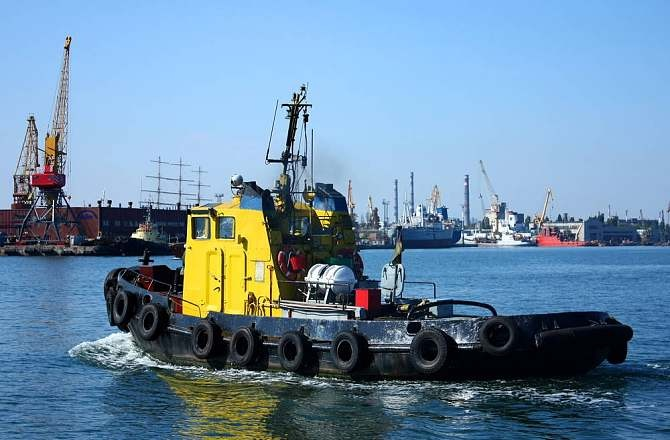otherboat: (96, 85, 635, 380)
